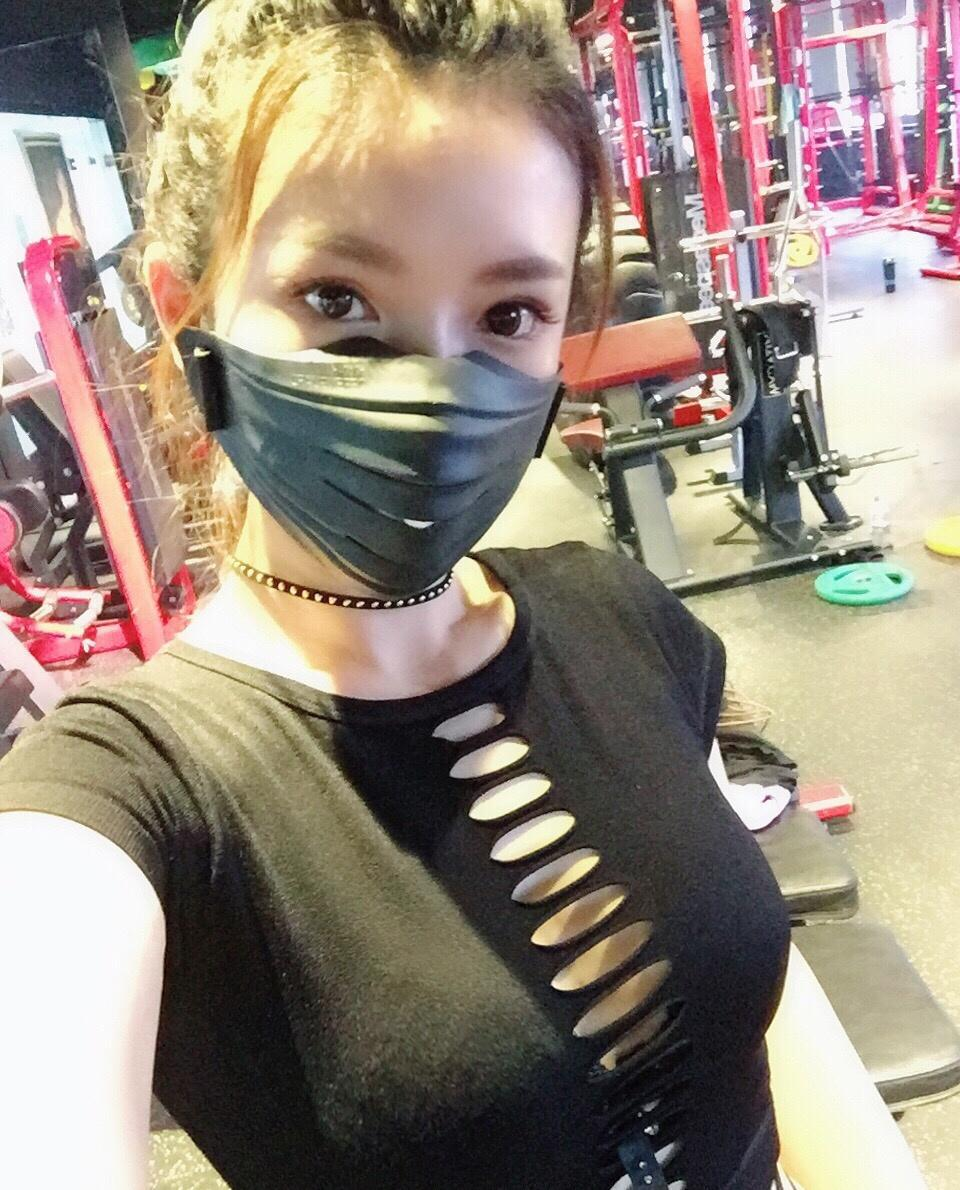OK: (160, 191, 582, 613)
